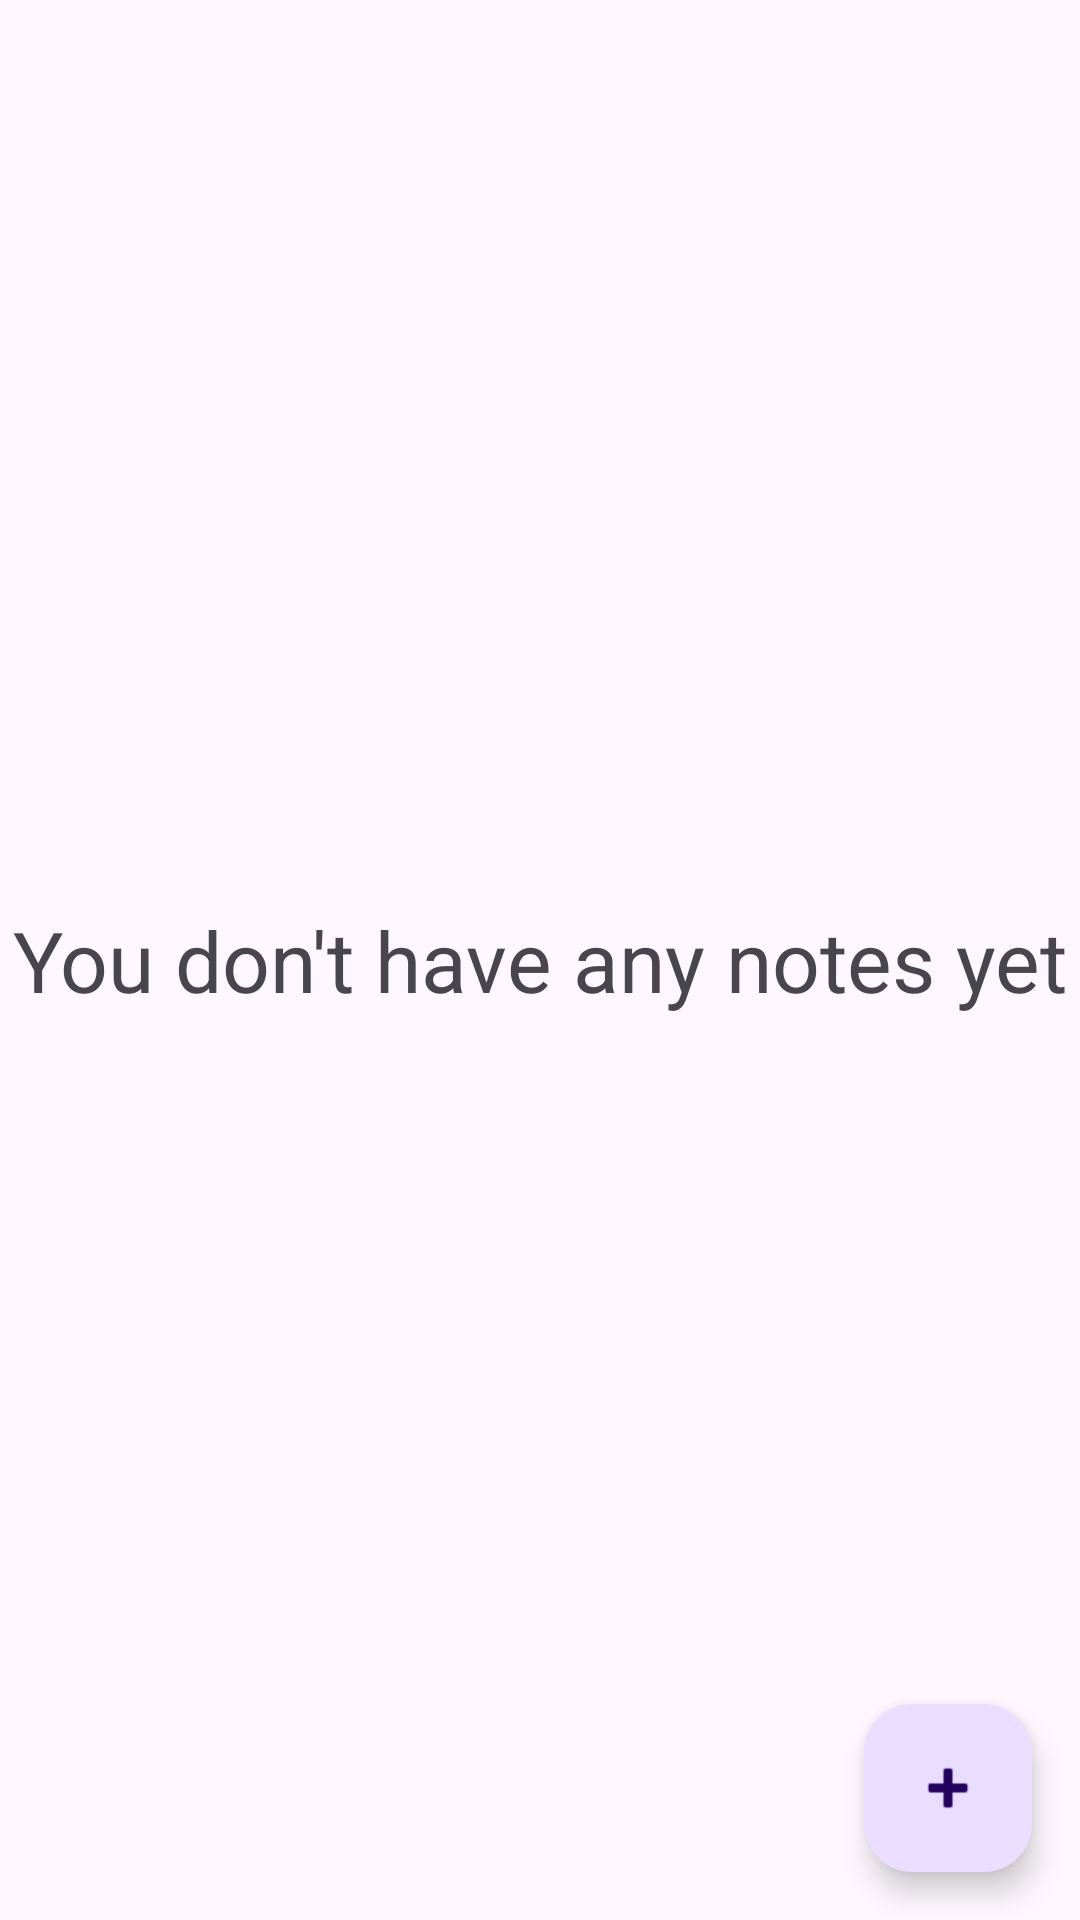

Locate icon controls on the screen. Image size 1080*1920, boxes as (x1, y1, x2, y2).
Create note: (864, 1704, 1032, 1872)
